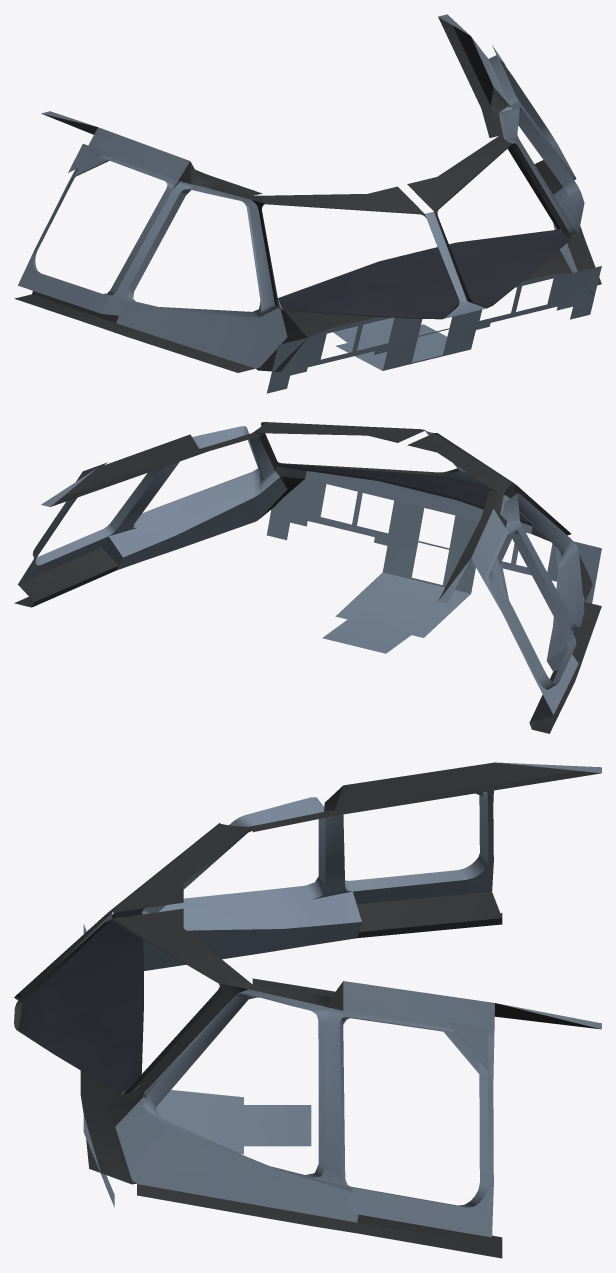
Rendered from interior320.fbx.
3 views of the same model, one above another, from view 1: azimuth 30°, elevation 25°; view 2: azimuth 150°, elevation 25°; view 3: azimuth 270°, elevation 25° (orthographic). The views are drawn at different scales.
Visible parts, largest first — view 1: interior; view 2: interior; view 3: interior.
Part boxes in pixels (left/top/right/bottom): interior: left=14, top=14, right=601, bottom=393; interior: left=14, top=422, right=601, bottom=733; interior: left=14, top=762, right=601, bottom=1258.
Bounding box in the file's own units: 292 × 95.78 × 210.
